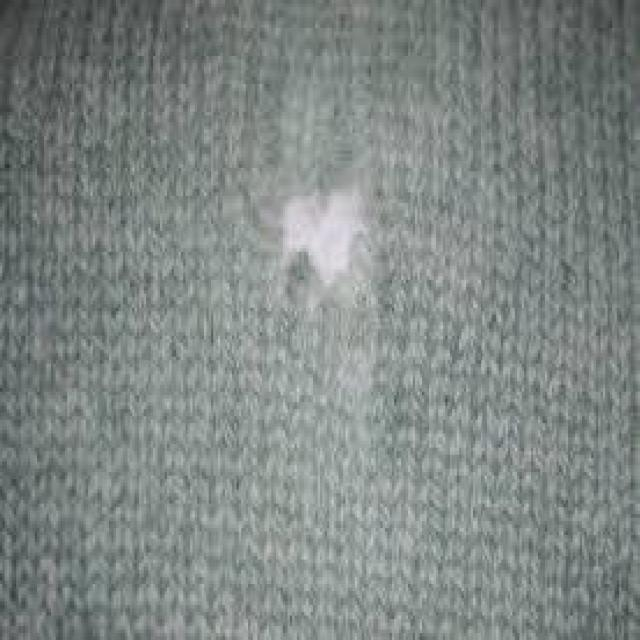hole: (259, 140, 414, 332)
